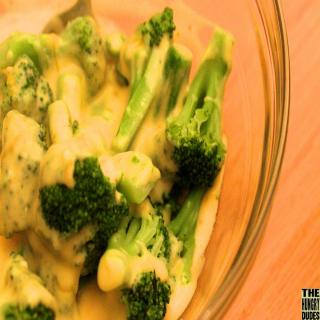Broccoli: (0, 6, 234, 320)
